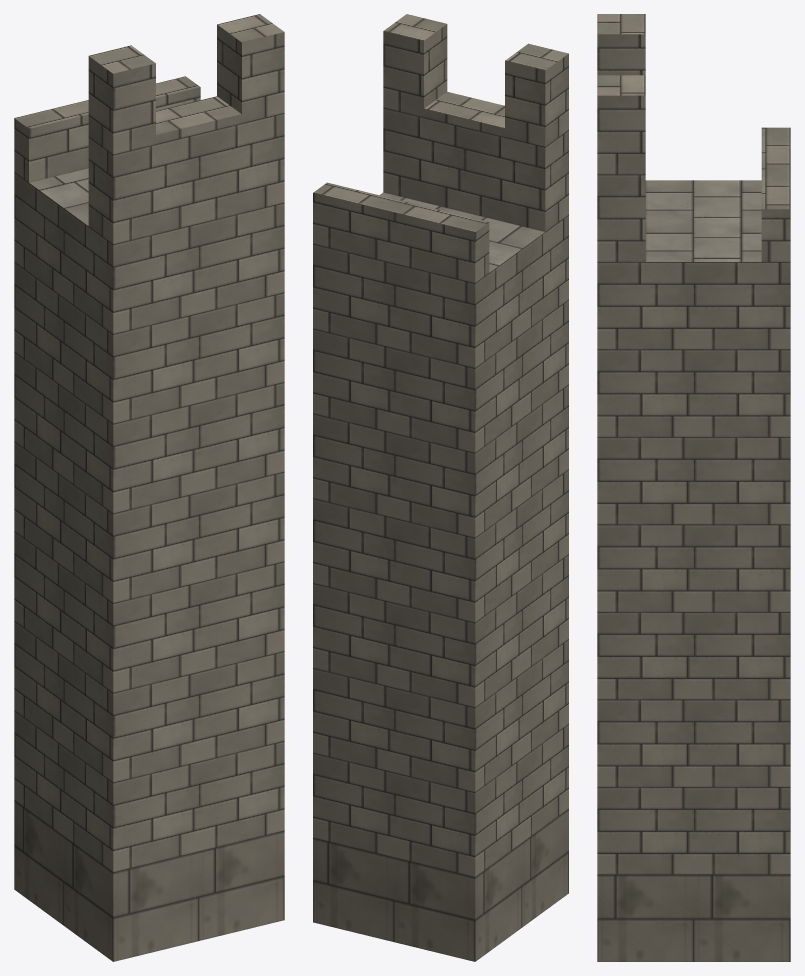
File: curtain_cs.obj
The picture shows the model from 3 angles, left to right: view 1: azimuth 30°, elevation 25°; view 2: azimuth 150°, elevation 25°; view 3: azimuth 270°, elevation 25°; orthographic projection. The views are drawn at different scales.
Visible parts, largest first — view 1: curtain_cs, curtain_cs_1, curtain_cs_2; view 2: curtain_cs, curtain_cs_1, curtain_cs_2; view 3: curtain_cs, curtain_cs_1, curtain_cs_2.
Boxes of the visible parts, x1,y1,x2,y2 form: curtain_cs: (14,168,284,961); curtain_cs_1: (88,14,284,244); curtain_cs_2: (14,76,200,182); curtain_cs: (313,192,568,961); curtain_cs_1: (383,14,568,231); curtain_cs_2: (313,182,489,282); curtain_cs: (597,180,790,961); curtain_cs_1: (597,14,645,261); curtain_cs_2: (761,127,790,261).
Bounding box in the file's own units: 2 × 9.9 × 2.
1 material, 1 textured.
